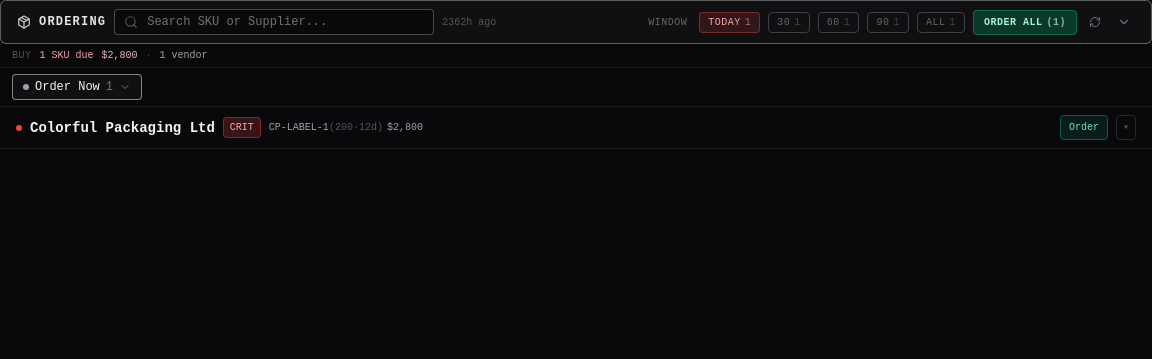
Scenario: PurchasingPanel - draft PO state › keeps the green draft PO marker but removes drafted items from the needing list
Click the button "▾": [1126, 128] box [1116, 115, 1136, 140]
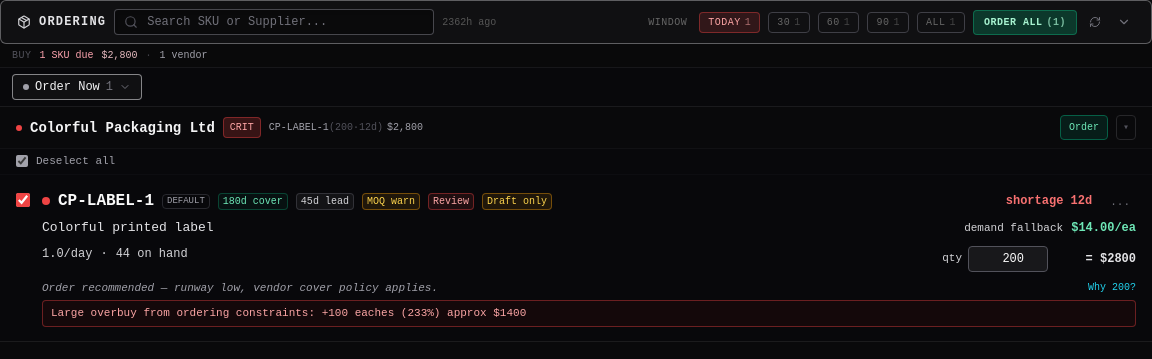
Expected: the text "Colorful printed label" is shown, [42, 220, 214, 235]
Click the button "Order": [1084, 128] box [1060, 115, 1108, 140]
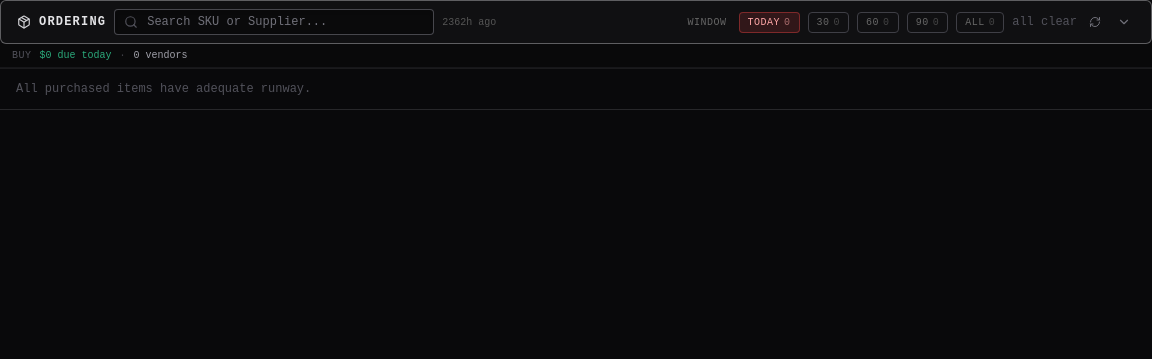
Expected: the text "Colorful printed label" is gone
